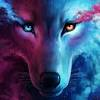Lobo: (1, 1, 98, 92)
